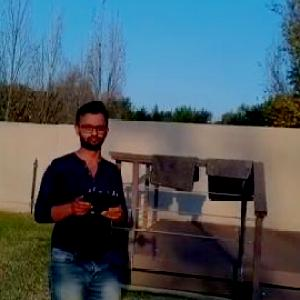follow: (29, 94, 132, 299)
